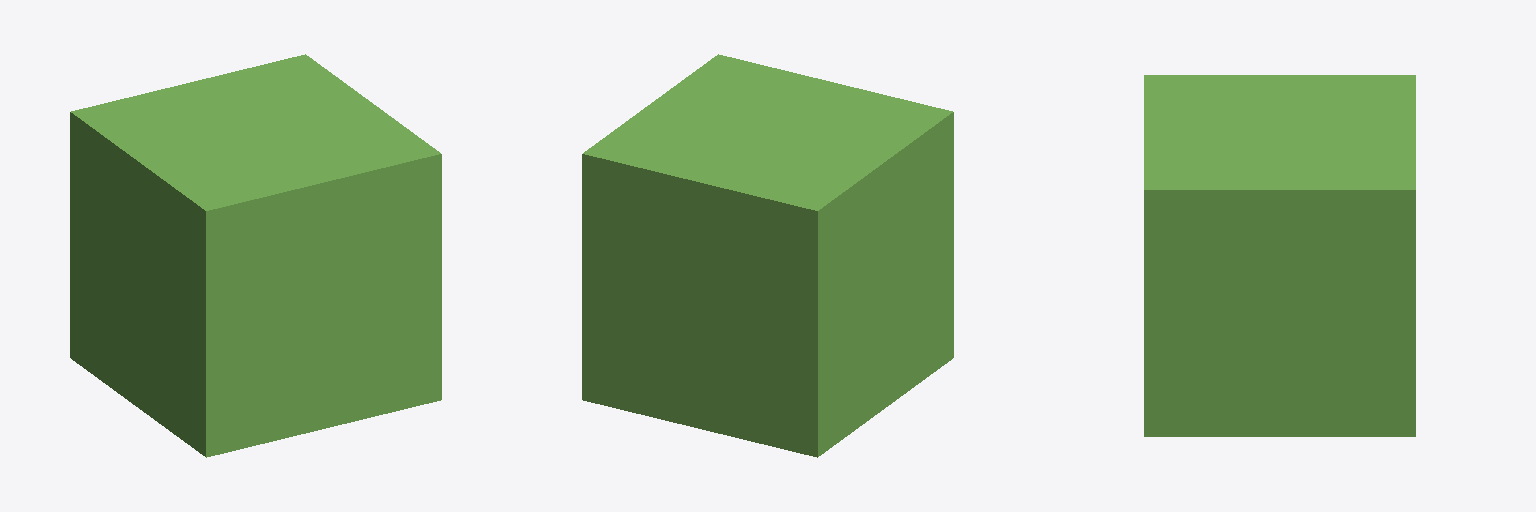
3 views of the same model, side by side, from view 1: azimuth 30°, elevation 25°; view 2: azimuth 150°, elevation 25°; view 3: azimuth 270°, elevation 25° (orthographic).
Visible parts, largest first — view 1: object 1; view 2: object 1; view 3: object 1.
Boxes of the visible parts, x1=… form: object 1: x1=70, y1=54, x2=441, y2=457; object 1: x1=582, y1=54, x2=953, y2=457; object 1: x1=1144, y1=75, x2=1415, y2=436.
Bounding box in the file's own units: 0.1 × 0.1 × 0.1.
Materials: 1 (1 with a texture image).